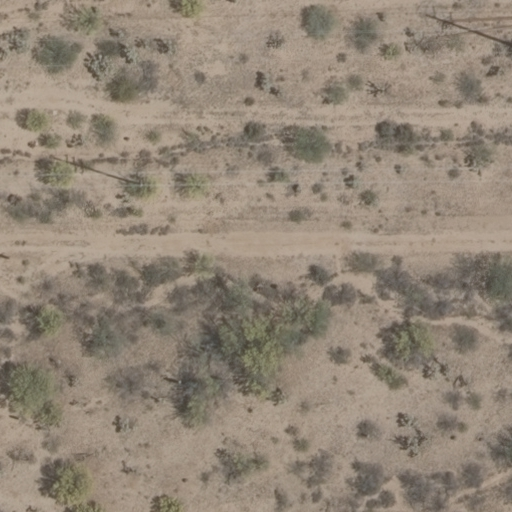DT: (124, 154, 153, 199)
